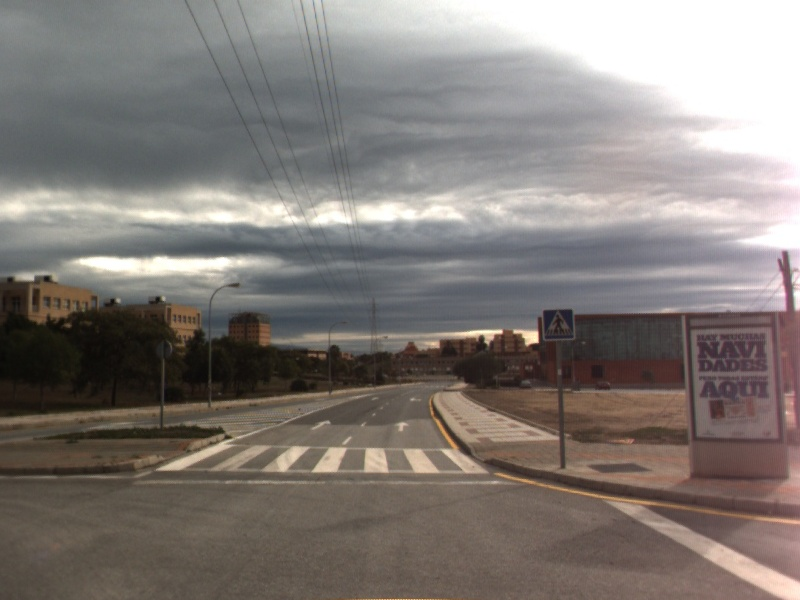STRAIGHT: (308, 418, 333, 432), (392, 419, 411, 433)
